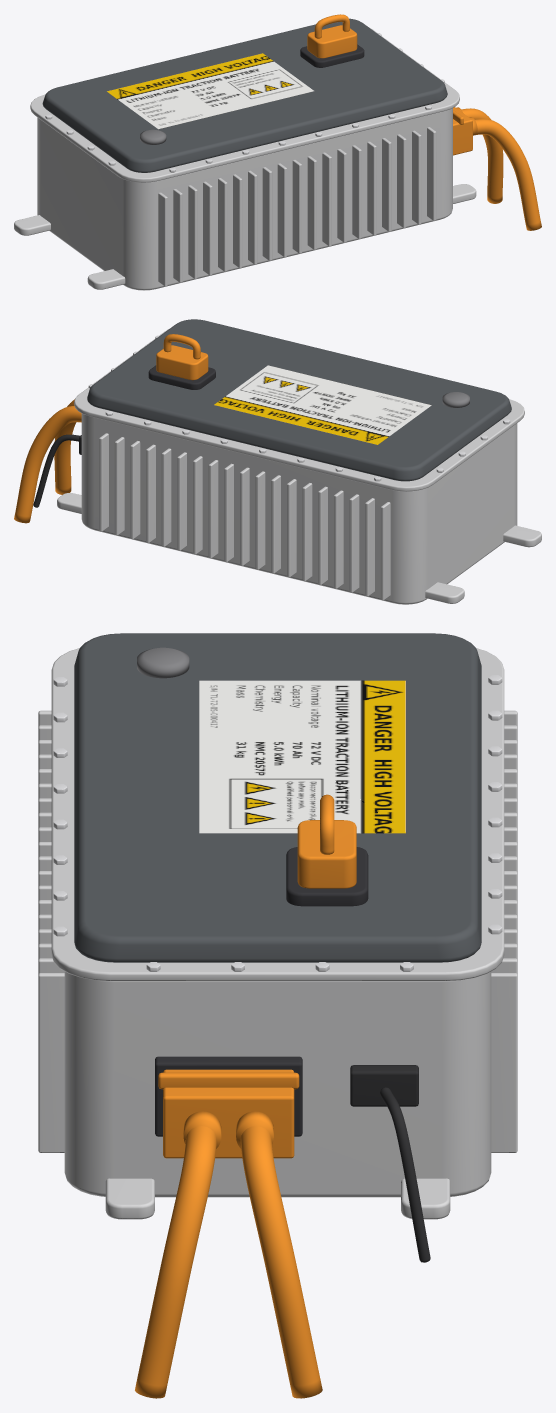
Rendered from battery_hv.glb.
3 views of the same model, one above another, from view 1: azimuth 30°, elevation 25°; view 2: azimuth 150°, elevation 25°; view 3: azimuth 270°, elevation 25° (orthographic). The views are drawn at different scales.
Parts seen in each view (by area): view 1: battery_hv__enclosure, battery_hv__lid, battery_hv__cooling_fins, battery_hv__label, battery_hv__flange, battery_hv__hv_cables, battery_hv__service_disconnect, battery_hv__mount_feet, battery_hv__hv_connector, battery_hv__lid_bolts, battery_hv__pressure_vent; view 2: battery_hv__enclosure, battery_hv__lid, battery_hv__cooling_fins, battery_hv__label, battery_hv__flange, battery_hv__hv_cables, battery_hv__service_disconnect, battery_hv__mount_feet, battery_hv__lv_connector, battery_hv__lid_bolts, battery_hv__pressure_vent; view 3: battery_hv__lid, battery_hv__enclosure, battery_hv__label, battery_hv__flange, battery_hv__hv_cables, battery_hv__cooling_fins, battery_hv__hv_connector, battery_hv__service_disconnect, battery_hv__lv_connector, battery_hv__mount_feet, battery_hv__lid_bolts, battery_hv__pressure_vent.
Boxes of the visible parts, x1,y1,x2,y2 form: battery_hv__enclosure: (37, 108, 452, 290); battery_hv__lid: (42, 18, 447, 172); battery_hv__cooling_fins: (158, 127, 436, 286); battery_hv__label: (107, 53, 313, 129); battery_hv__flange: (30, 27, 459, 182); battery_hv__hv_cables: (456, 107, 541, 230); battery_hv__service_disconnect: (300, 14, 364, 67); battery_hv__mount_feet: (14, 184, 476, 289); battery_hv__hv_connector: (453, 107, 472, 155); battery_hv__lid_bolts: (45, 33, 444, 172); battery_hv__pressure_vent: (140, 129, 166, 144); battery_hv__enclosure: (81, 413, 517, 604); battery_hv__lid: (87, 319, 511, 481); battery_hv__cooling_fins: (99, 433, 390, 600); battery_hv__label: (214, 365, 431, 444); battery_hv__flange: (74, 329, 524, 491); battery_hv__hv_cables: (14, 399, 81, 523); battery_hv__service_disconnect: (148, 334, 215, 389); battery_hv__mount_feet: (57, 493, 541, 603); battery_hv__lv_connector: (33, 434, 81, 507); battery_hv__lid_bolts: (88, 335, 510, 481); battery_hv__pressure_vent: (442, 392, 469, 407); battery_hv__lid: (74, 633, 481, 962); battery_hv__enclosure: (64, 971, 491, 1197); battery_hv__label: (199, 680, 405, 833); battery_hv__flange: (51, 648, 504, 980); battery_hv__hv_cables: (135, 1111, 322, 1398); battery_hv__cooling_fins: (38, 710, 517, 1152); battery_hv__hv_connector: (155, 1056, 302, 1158); battery_hv__service_disconnect: (286, 794, 368, 906); battery_hv__lv_connector: (350, 1065, 430, 1262); battery_hv__mount_feet: (105, 1178, 450, 1219); battery_hv__lid_bolts: (53, 675, 502, 971); battery_hv__pressure_vent: (137, 647, 189, 678).
Bounding box in the file's own units: 64.04 × 29.52 × 29.2.
Materials: 8 (1 with a texture image).
